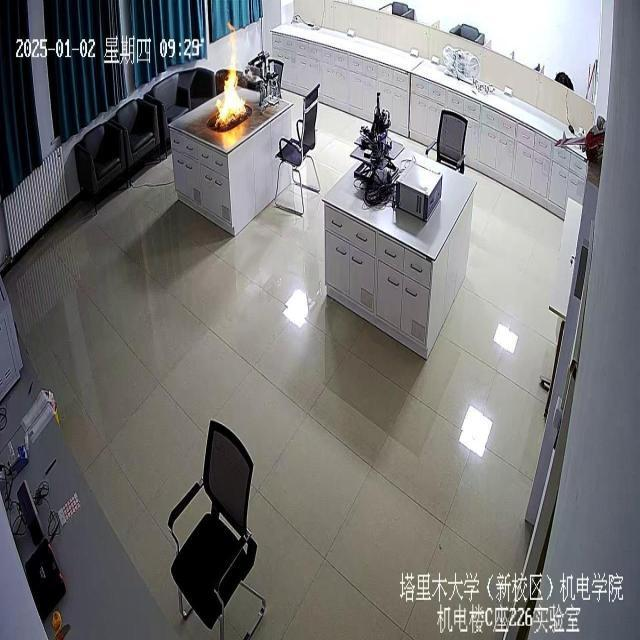smoke: (214, 22, 248, 128)
